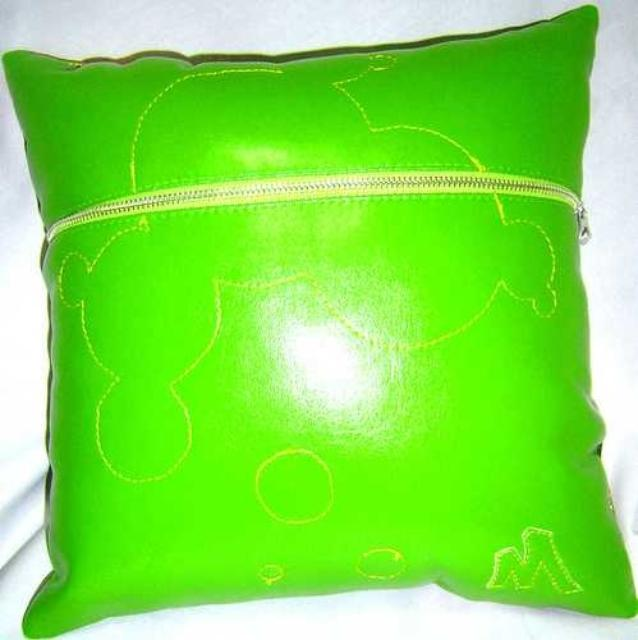pillow: (0, 3, 638, 637)
